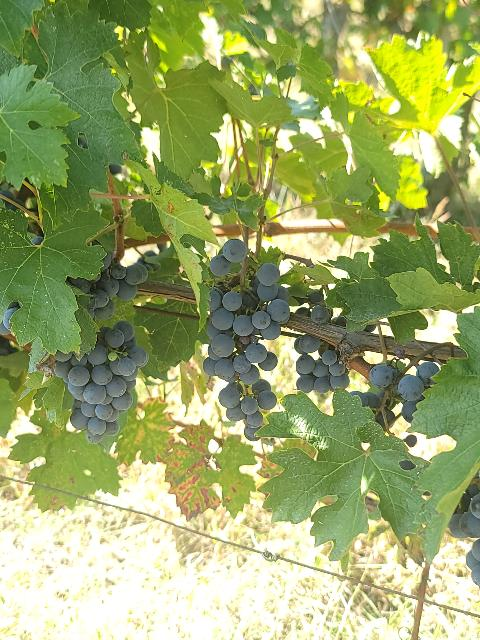grapes: (202, 239, 290, 441), (54, 321, 149, 444), (294, 334, 350, 394), (296, 289, 346, 328)
